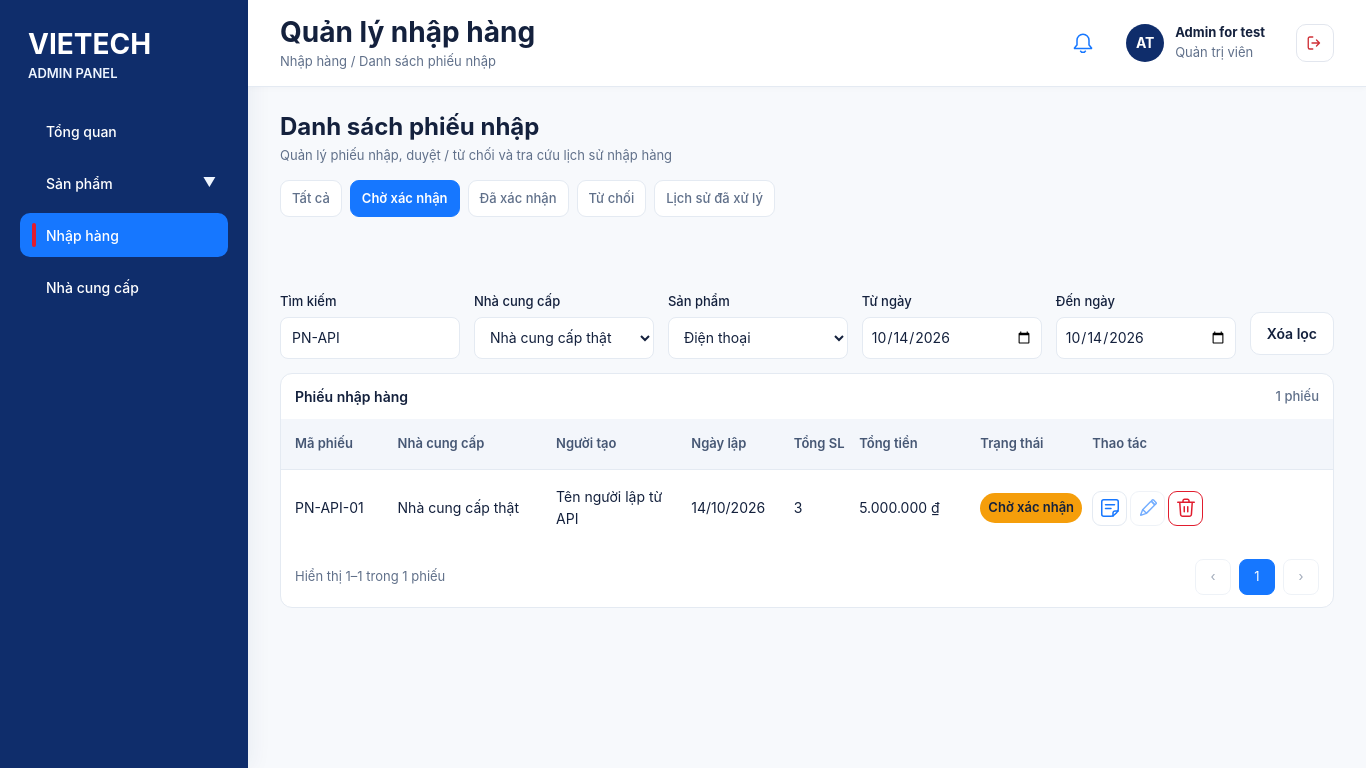
it: the file icon opens the separate detail route, keeps filters and returns to the same list
Click the button named "Chi tiết PN-API-01" at (1110, 508), box top-left (1092, 491), bottom-right (1127, 526)
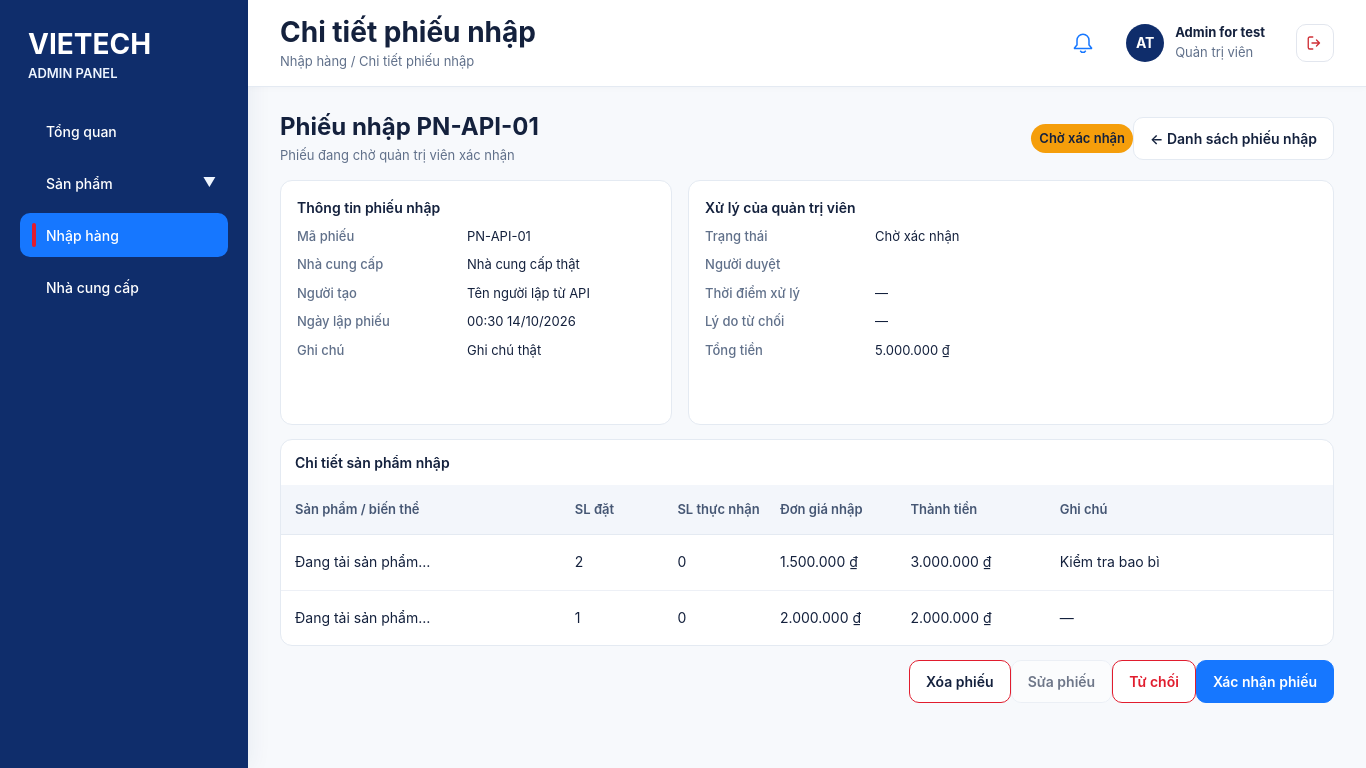
Check: the heading "Phiếu nhập PN-API-01" is shown, box top-left (280, 111), bottom-right (539, 143)
Click the button "← Danh sách phiếu nhập" at (1234, 138), box top-left (1133, 117), bottom-right (1334, 160)
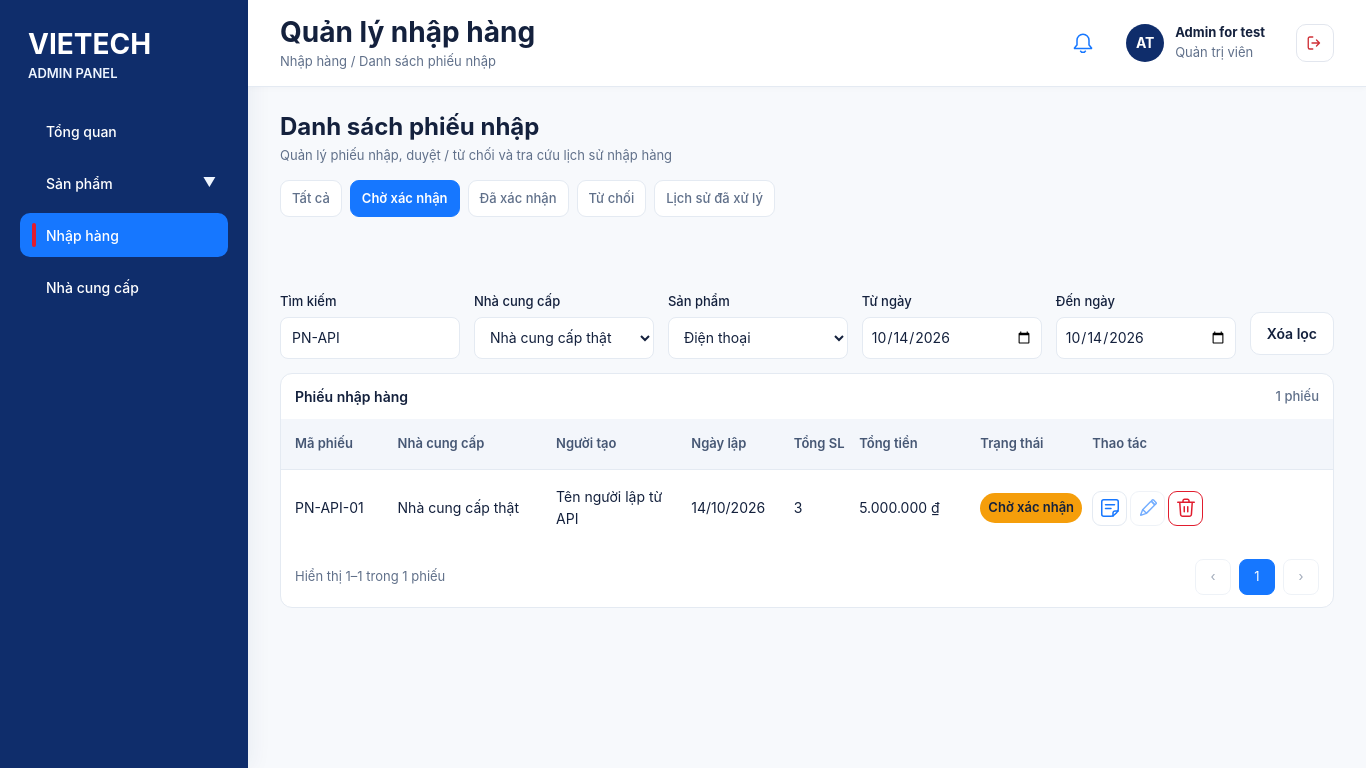
Check: the heading "Danh sách phiếu nhập" is shown, box top-left (280, 112), bottom-right (539, 141)
